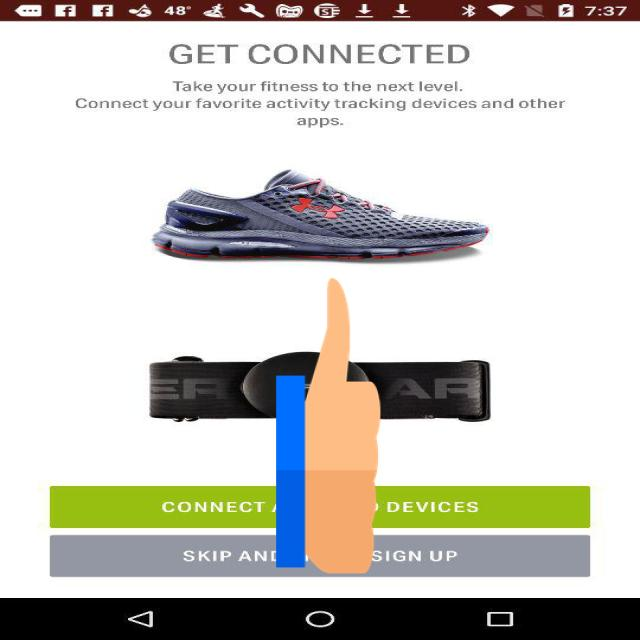privacy zuckering: (276, 270, 381, 580)
